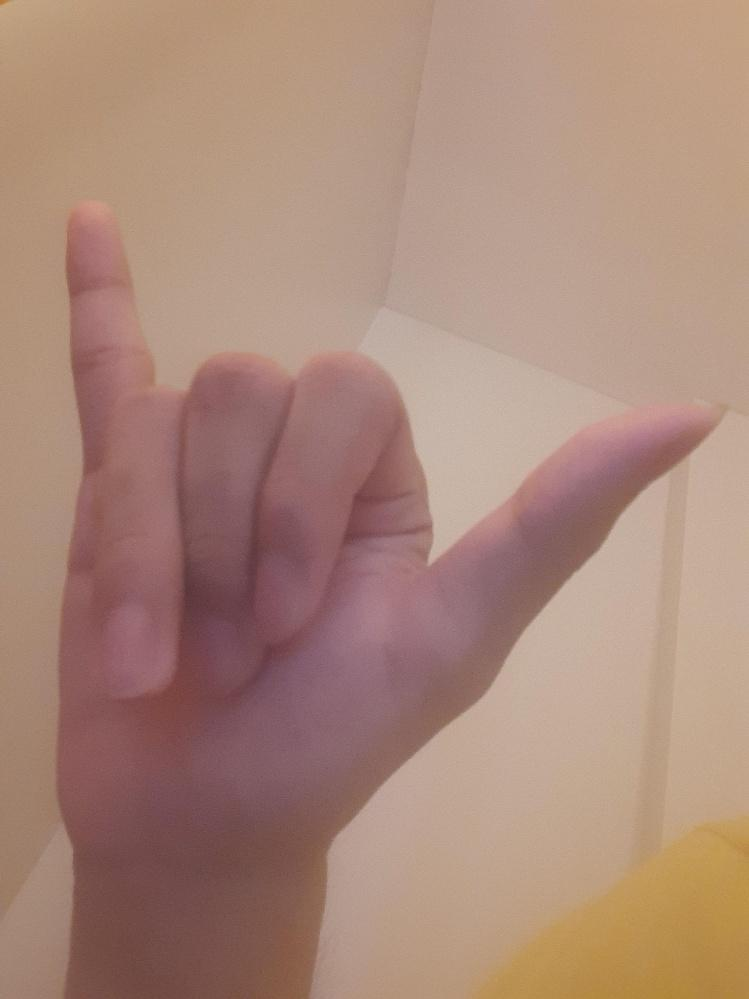y: (61, 196, 721, 849)
